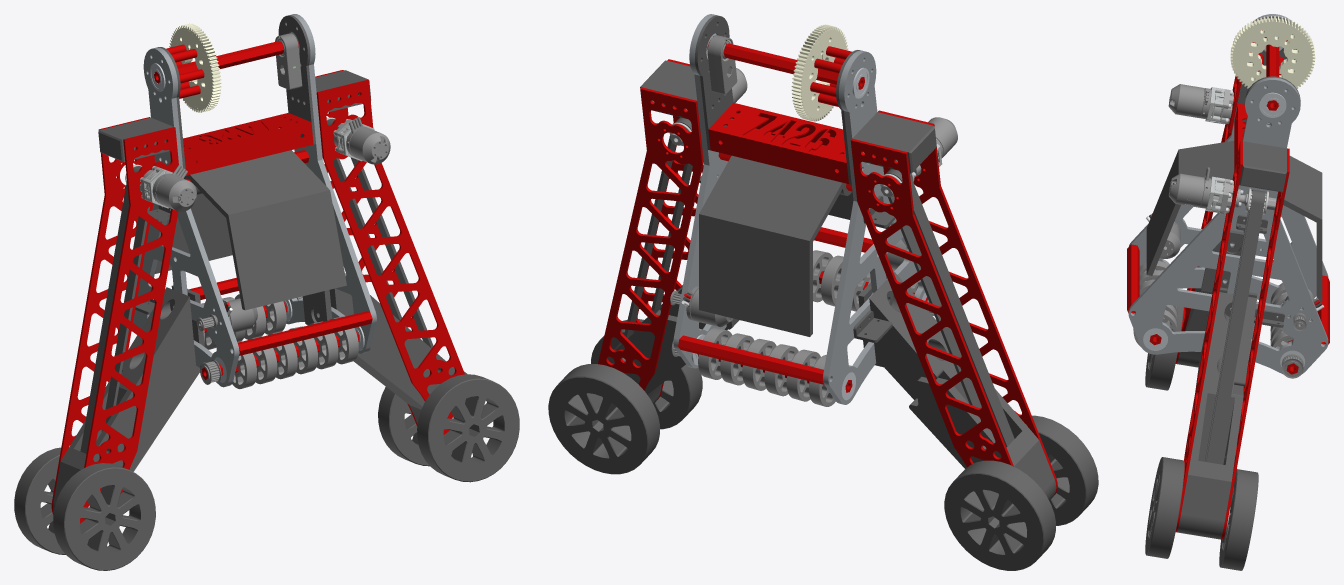
Rendered from robot-2025-claw.glb.
The picture shows the model from 3 angles, left to right: view 1: azimuth 30°, elevation 25°; view 2: azimuth 150°, elevation 25°; view 3: azimuth 270°, elevation 25°; orthographic projection. The views are drawn at different scales.
Parts seen in each view (by area): view 1: AlgaePlates (×4), Part 1 (×4), CoralHardStop, RightFunnel, ClawRightPlate, AlgaeBelt (×2), 4inWheels (×3), LeftFunnel, BackSupportTube, 2" OD 1/2" Hex Bore Compliant Wheel 60A (am-3462) (×6), ClawLeftPlate, NEO 550 Motor (REV-21-1651) (×2) (+7 smaller); view 2: AlgaePlates (×4), CoralHardStop, Part 1 (×4), 4inWheels (×4), RightFunnel, ClawRightPlate, BackSupportTube, AlgaeBelt (×2), 2" OD 1/2" Hex Bore Compliant Wheel 60A (am-3462) (×6), ClawLeftPlate, BackAlgaeTube (×2), 74t Aluminum Spur Gear (20 DP, SplineXL Bore) (+9 smaller); view 3: ClawLeftPlate, LeftFunnel, Part 1 (×3), CoralHardStop, AlgaePlates (×3), AlgaeBelt, 74t Aluminum Spur Gear (20 DP, SplineXL Bore), ClawRightPlate, NEO 550 Motor (REV-21-1651) (×2), RightFunnel, ClawSpacerChurro (×2), BackAlgaeTube (+10 smaller).
Part boxes in pixels (bbox=[...]): AlgaePlates (×4): bbox=[51, 70, 464, 523]; Part 1 (×4): bbox=[14, 367, 519, 570]; CoralHardStop: bbox=[155, 150, 346, 310]; RightFunnel: bbox=[53, 285, 204, 512]; ClawRightPlate: bbox=[133, 47, 239, 387]; AlgaeBelt (×2): bbox=[80, 119, 433, 453]; 4inWheels (×3): bbox=[32, 386, 513, 563]; LeftFunnel: bbox=[302, 288, 465, 423]; BackSupportTube: bbox=[183, 113, 313, 175]; 2" OD 1/2" Hex Bore Compliant Wheel 60A (am-3462) (×6): bbox=[232, 316, 358, 389]; ClawLeftPlate: bbox=[286, 14, 376, 353]; NEO 550 Motor (REV-21-1651) (×2): bbox=[152, 117, 390, 211]; AlgaePlates (×4): bbox=[598, 59, 1057, 496]; CoralHardStop: bbox=[699, 155, 889, 336]; Part 1 (×4): bbox=[548, 319, 1098, 570]; 4inWheels (×4): bbox=[553, 338, 1080, 565]; RightFunnel: bbox=[858, 272, 1056, 500]; ClawRightPlate: bbox=[823, 50, 925, 404]; BackSupportTube: bbox=[708, 102, 848, 183]; AlgaeBelt (×2): bbox=[624, 117, 1014, 447]; 2" OD 1/2" Hex Bore Compliant Wheel 60A (am-3462) (×6): bbox=[698, 255, 843, 401]; ClawLeftPlate: bbox=[673, 14, 728, 368]; BackAlgaeTube (×2): bbox=[642, 61, 932, 169]; 74t Aluminum Spur Gear (20 DP, SplineXL Bore): bbox=[791, 24, 848, 121]; ClawLeftPlate: bbox=[1128, 77, 1328, 374]; LeftFunnel: bbox=[1177, 286, 1257, 539]; Part 1 (×3): bbox=[1145, 306, 1258, 570]; CoralHardStop: bbox=[1146, 140, 1322, 302]; AlgaePlates (×3): bbox=[1175, 76, 1289, 539]; AlgaeBelt: bbox=[1205, 189, 1265, 463]; 74t Aluminum Spur Gear (20 DP, SplineXL Bore): bbox=[1230, 16, 1315, 88]; ClawRightPlate: bbox=[1129, 14, 1328, 303]; NEO 550 Motor (REV-21-1651) (×2): bbox=[1168, 84, 1211, 208]; RightFunnel: bbox=[1177, 230, 1244, 367]; ClawSpacerChurro (×2): bbox=[1127, 244, 1329, 344]; BackAlgaeTube: bbox=[1243, 141, 1286, 171].
Size of the model in its own units: 0.5684 by 0.5643 by 0.2313.
